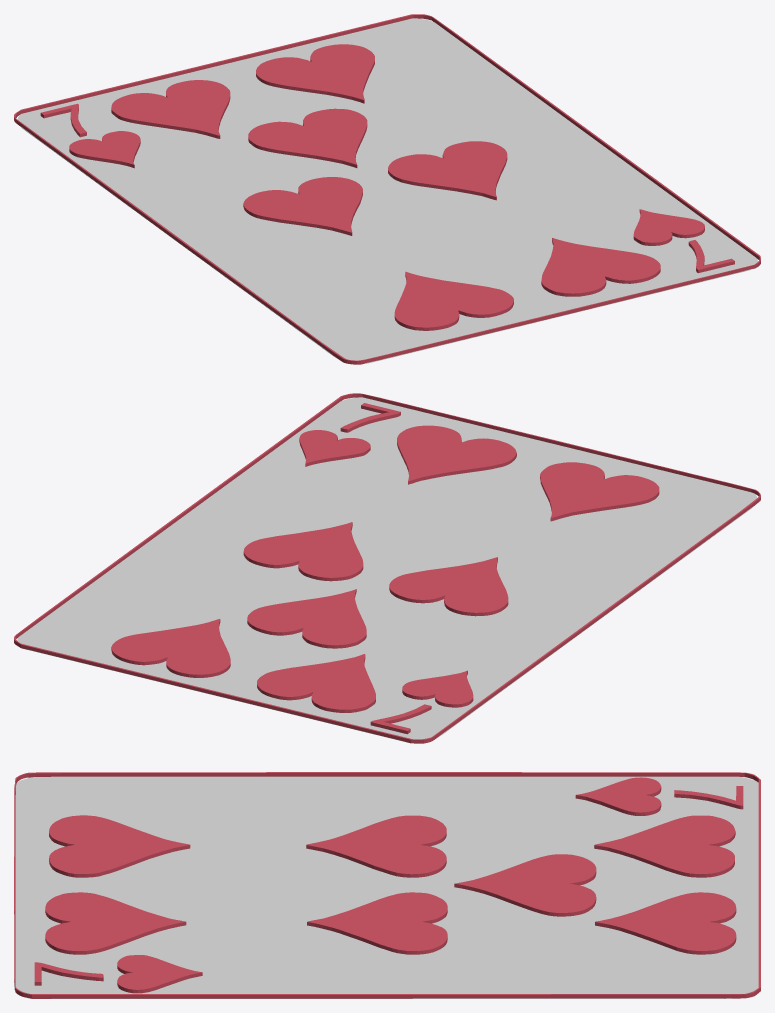
The model's file is 7_hearts.glb.
The picture shows the model from 3 angles, top to bottom: view 1: azimuth 30°, elevation 25°; view 2: azimuth 150°, elevation 25°; view 3: azimuth 270°, elevation 25°; orthographic projection. The views are drawn at different scales.
Visible parts, largest first — view 1: Mesh_Mesh_head_geo.001_lambert2SG.001; view 2: Mesh_Mesh_head_geo.001_lambert2SG.001; view 3: Mesh_Mesh_head_geo.001_lambert2SG.001.
Boxes of the visible parts, x1=… form: Mesh_Mesh_head_geo.001_lambert2SG.001: x1=14, y1=14, x2=760, y2=364; Mesh_Mesh_head_geo.001_lambert2SG.001: x1=14, y1=393, x2=760, y2=743; Mesh_Mesh_head_geo.001_lambert2SG.001: x1=14, y1=772, x2=760, y2=998.
Bounding box in the file's own units: 1.2 × 0.01 × 1.7.
